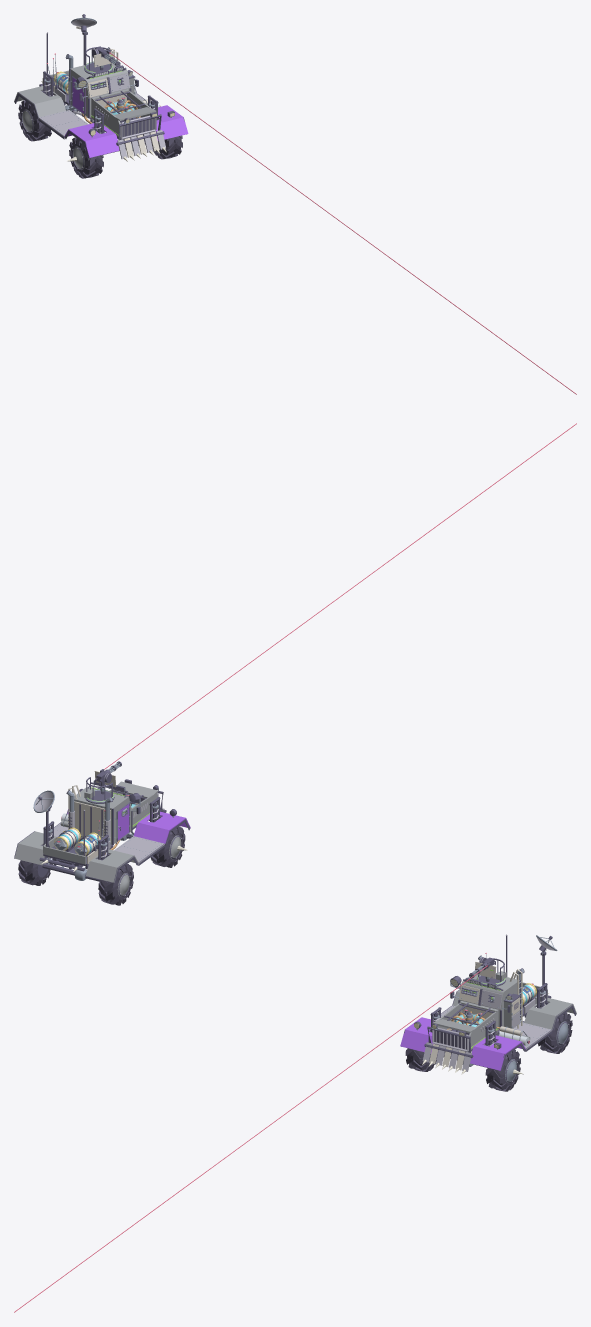
File: warrig.glb
3 renders of one model, top to bottom at view 1: azimuth 30°, elevation 25°; view 2: azimuth 150°, elevation 25°; view 3: azimuth 330°, elevation 25°, orthographic.
Parts seen in each view (by area): view 1: wa_wa_chassis_body_30, wa_wa_chassis_metal_20, wa_wa_chassis_primer_30, wa_wa_chassis_bleach_20, wa_wa_chassis_metal_30, wa_w0_wa_wheel0_tire_50, wa_wa_chassis_dark_15, wa_wa_chassis_dark_20, wa_wa_chassis_primer_70, wa_wa_chassis_primer_50, wa_w2_wa_wheel2_tire_50, wa_wa_chassis_dark_12 (+1 smaller); view 2: wa_wa_chassis_primer_30, wa_wa_chassis_body_30, wa_wa_chassis_bleach_20, wa_wa_chassis_metal_30, wa_w2_wa_wheel2_tire_50, wa_wa_chassis_primer_70, wa_wa_chassis_dark_20, wa_wa_chassis_dark_15, wa_w0_wa_wheel0_tire_50; view 3: wa_wa_chassis_body_30, wa_wa_chassis_primer_30, wa_wa_chassis_metal_20, wa_wa_chassis_bleach_20, wa_w1_wa_wheel1_tire_50, wa_wa_chassis_dark_20, wa_wa_chassis_dark_15, wa_wa_chassis_primer_70, wa_wa_chassis_primer_50, wa_w3_wa_wheel3_tire_50, wa_wa_chassis_dark_12, wa_wa_chassis_metal_30.
Part boxes in pixels (x1,y1,x2,y2): wa_wa_chassis_body_30: [64, 105, 188, 157]; wa_wa_chassis_metal_20: [54, 19, 165, 158]; wa_wa_chassis_primer_30: [14, 86, 136, 117]; wa_wa_chassis_bleach_20: [42, 78, 159, 157]; wa_wa_chassis_metal_30: [38, 93, 144, 136]; wa_w0_wa_wheel0_tire_50: [69, 137, 103, 178]; wa_wa_chassis_dark_15: [43, 35, 158, 133]; wa_wa_chassis_dark_20: [39, 68, 164, 145]; wa_wa_chassis_primer_70: [70, 63, 129, 117]; wa_wa_chassis_primer_50: [91, 91, 150, 137]; wa_w2_wa_wheel2_tire_50: [18, 100, 51, 141]; wa_wa_chassis_dark_12: [14, 25, 184, 158]; wa_wa_chassis_primer_30: [14, 831, 138, 882]; wa_wa_chassis_body_30: [67, 809, 190, 843]; wa_wa_chassis_bleach_20: [74, 801, 131, 863]; wa_wa_chassis_metal_30: [50, 823, 164, 863]; wa_w2_wa_wheel2_tire_50: [98, 864, 133, 905]; wa_wa_chassis_primer_70: [74, 787, 131, 844]; wa_wa_chassis_dark_20: [39, 785, 166, 871]; wa_wa_chassis_dark_15: [43, 779, 160, 859]; wa_w0_wa_wheel0_tire_50: [150, 826, 185, 867]; wa_wa_chassis_body_30: [400, 1017, 525, 1070]; wa_wa_chassis_primer_30: [452, 989, 576, 1029]; wa_wa_chassis_metal_20: [422, 937, 555, 1071]; wa_wa_chassis_bleach_20: [429, 985, 494, 1070]; wa_w1_wa_wheel1_tire_50: [485, 1050, 520, 1091]; wa_wa_chassis_dark_20: [424, 976, 551, 1058]; wa_wa_chassis_dark_15: [430, 955, 547, 1045]; wa_wa_chassis_primer_70: [459, 974, 519, 1029]; wa_wa_chassis_primer_50: [437, 1003, 498, 1049]; wa_w3_wa_wheel3_tire_50: [538, 1012, 572, 1053]; wa_wa_chassis_dark_12: [401, 945, 576, 1071]; wa_wa_chassis_metal_30: [433, 1005, 552, 1049].
Bounding box in the file's own units: 6.68 × 5.41 × 49.81.
